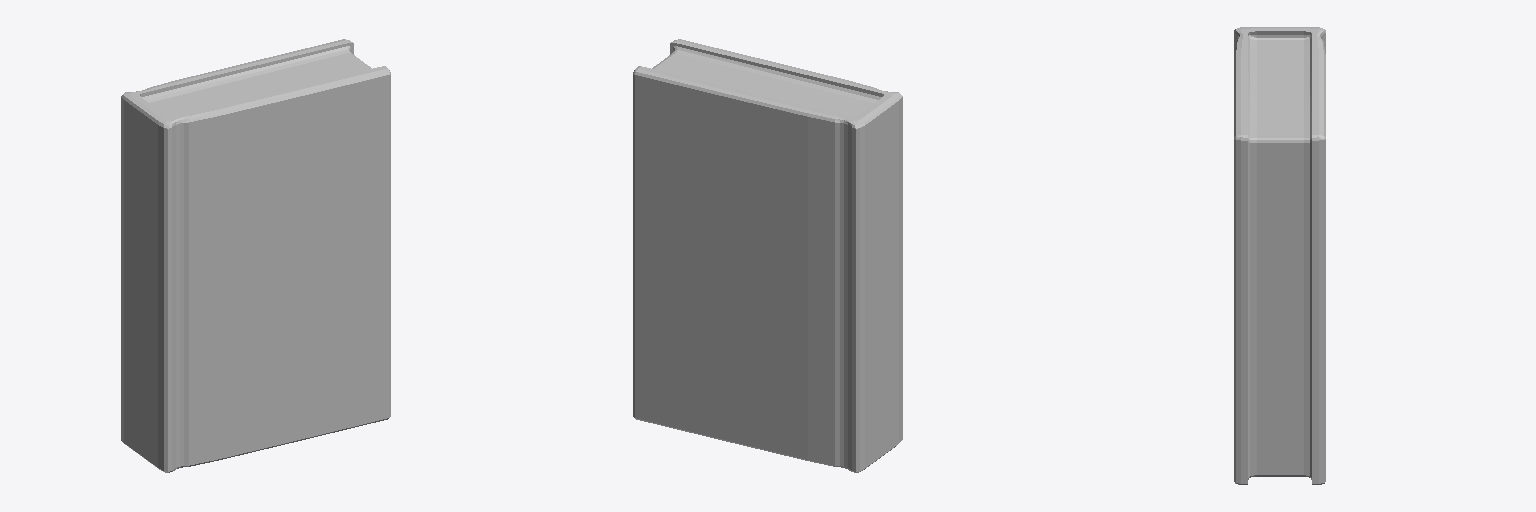
File: book.obj
The picture shows the model from 3 angles: view 1: azimuth 30°, elevation 25°; view 2: azimuth 150°, elevation 25°; view 3: azimuth 270°, elevation 25°; orthographic projection.
Parts seen in each view (by area): view 1: pCube16; view 2: pCube16; view 3: pCube16.
Part boxes in pixels (bbox=[...]): pCube16: bbox=[121, 39, 390, 472]; pCube16: bbox=[633, 39, 902, 472]; pCube16: bbox=[1234, 27, 1325, 484].
Size of the model in its own units: 1.37 by 2 by 0.478.